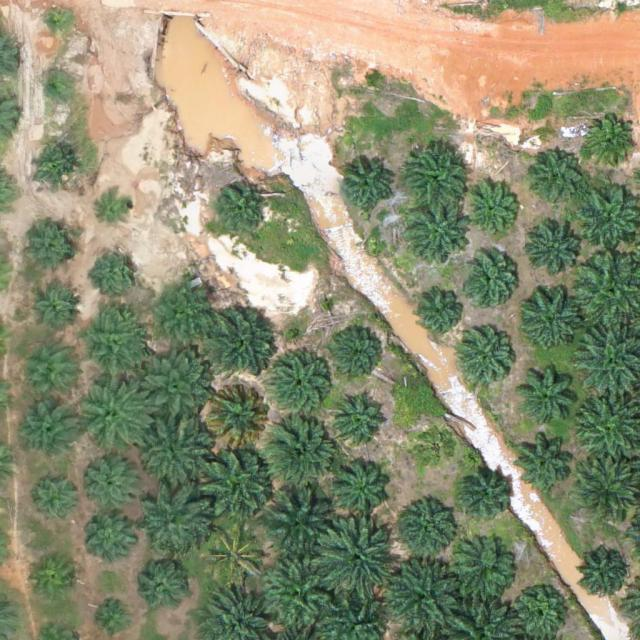Dead: (414, 424, 461, 472)
Grass: (199, 519, 270, 590)
Healthy: (76, 373, 154, 452), (203, 301, 281, 380), (199, 447, 277, 526), (138, 414, 216, 493), (136, 481, 214, 560), (263, 411, 341, 490), (260, 556, 338, 635), (315, 520, 393, 599), (381, 560, 459, 639), (133, 351, 211, 429), (262, 484, 340, 562), (80, 310, 150, 381), (149, 278, 219, 349), (267, 351, 337, 422), (447, 540, 518, 610), (84, 451, 147, 514), (515, 430, 578, 493), (405, 144, 468, 207), (394, 501, 457, 564), (17, 345, 79, 408), (519, 289, 582, 351), (516, 363, 578, 426), (408, 203, 470, 266), (330, 454, 392, 517), (22, 402, 77, 457), (83, 510, 138, 565), (582, 115, 637, 170), (533, 151, 588, 206), (528, 225, 583, 280), (466, 185, 521, 240), (464, 256, 519, 311), (459, 333, 514, 388), (340, 160, 395, 215), (458, 464, 512, 520), (133, 560, 187, 615), (335, 391, 389, 446), (332, 326, 386, 381), (580, 551, 627, 598)
Small: (26, 224, 81, 279), (214, 186, 269, 241), (413, 285, 468, 340), (28, 284, 82, 339), (31, 145, 78, 193), (94, 247, 141, 295), (31, 552, 78, 599), (36, 477, 83, 524), (97, 190, 136, 230), (94, 596, 133, 635), (43, 8, 74, 39), (40, 75, 71, 106)
Yellow: (204, 382, 274, 452)
